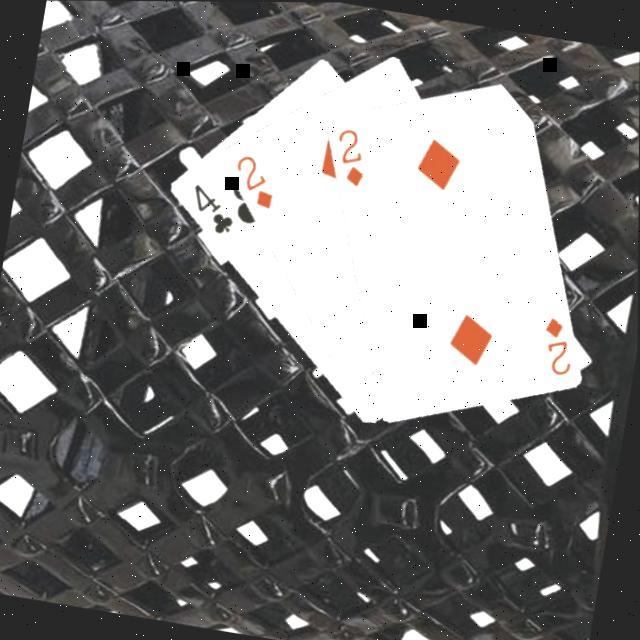2D: (228, 147, 284, 210), (328, 121, 375, 188), (536, 310, 583, 377)
4C: (185, 178, 244, 238)
